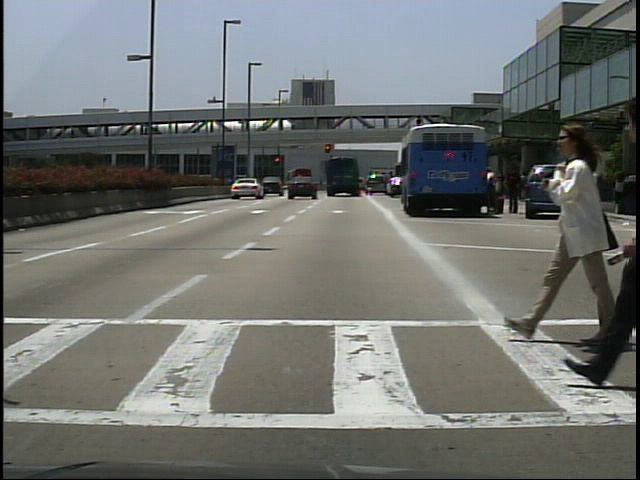person: (529, 116, 614, 350), (582, 168, 602, 218), (503, 165, 522, 214), (487, 162, 502, 215)
